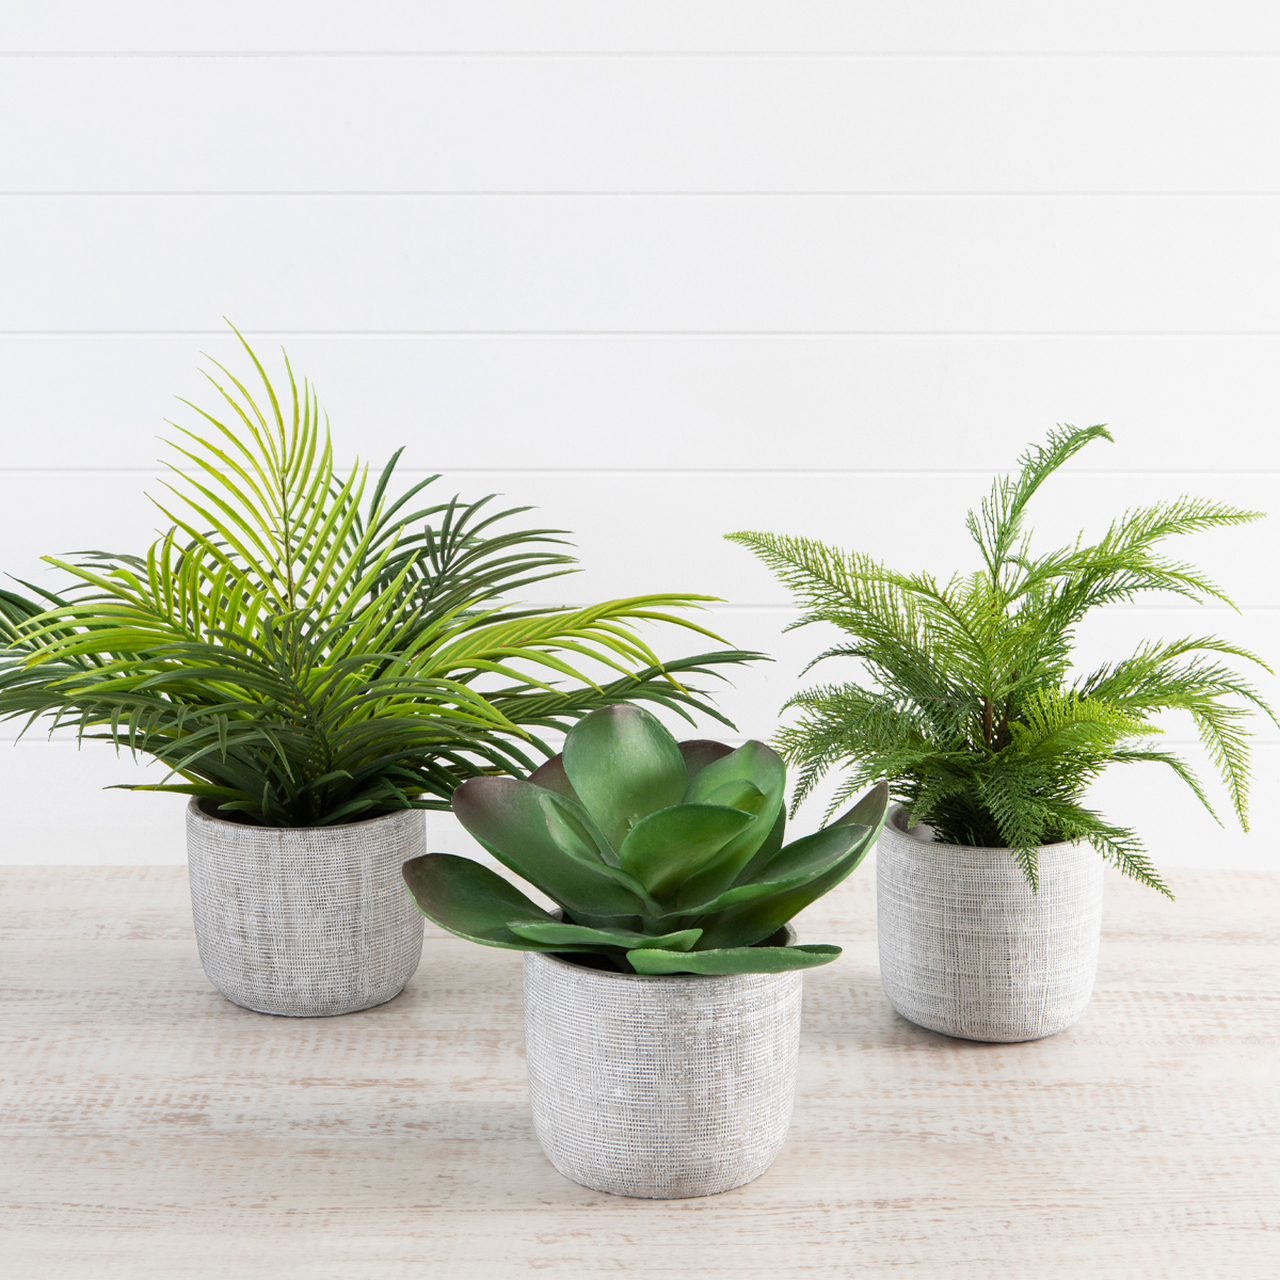tanaman: (764, 490, 1253, 1042), (55, 440, 484, 1051), (334, 719, 890, 1180)
